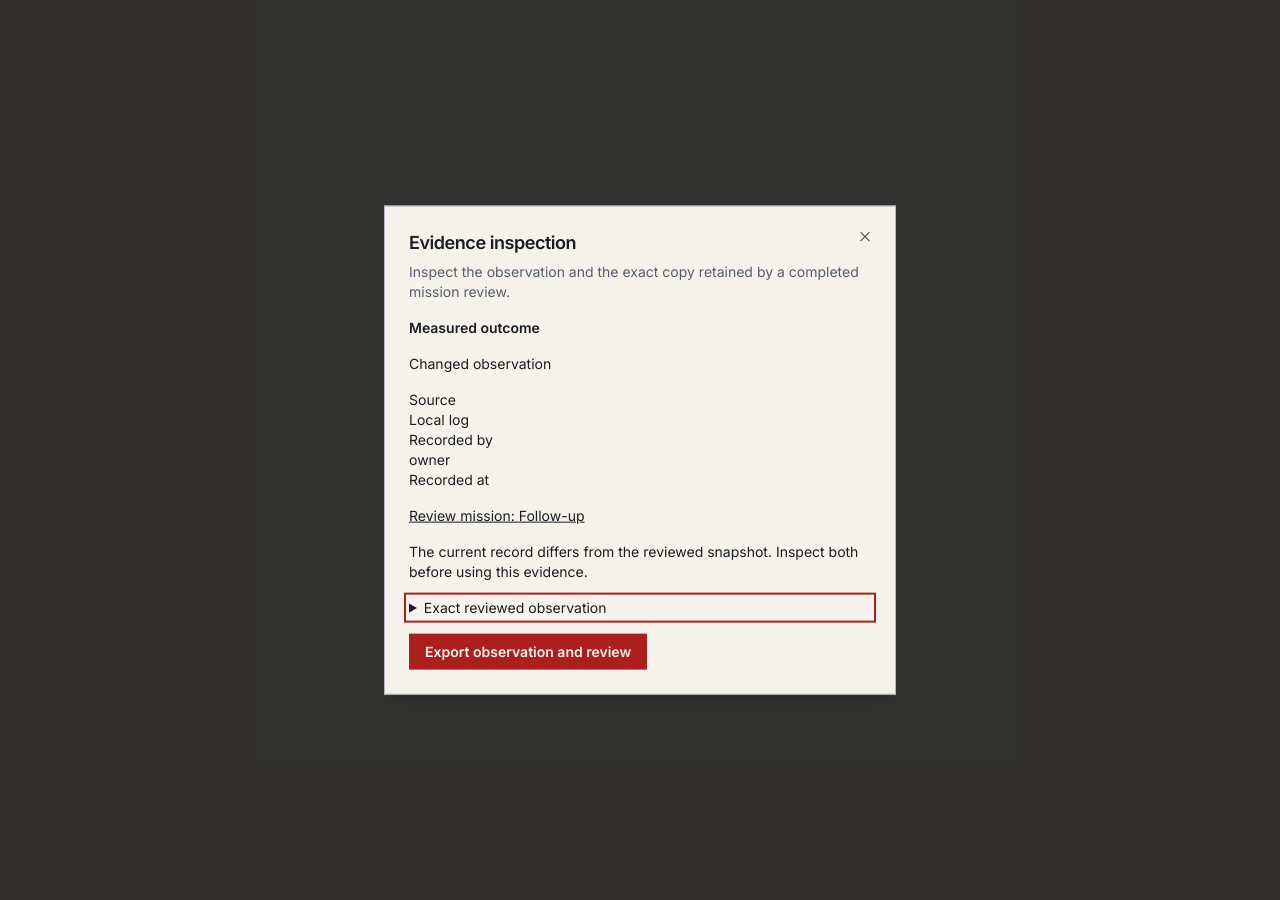
it: opens retained review bytes and leaves an unsafe evidence URL inert
This screenshot has width=1280, height=900.
Expected: the message shows "differs from the reviewed snapshot", left=409, top=542, right=858, bottom=579
Click the heading "Exact reviewed observation": (515, 607) left=424, top=598, right=606, bottom=615
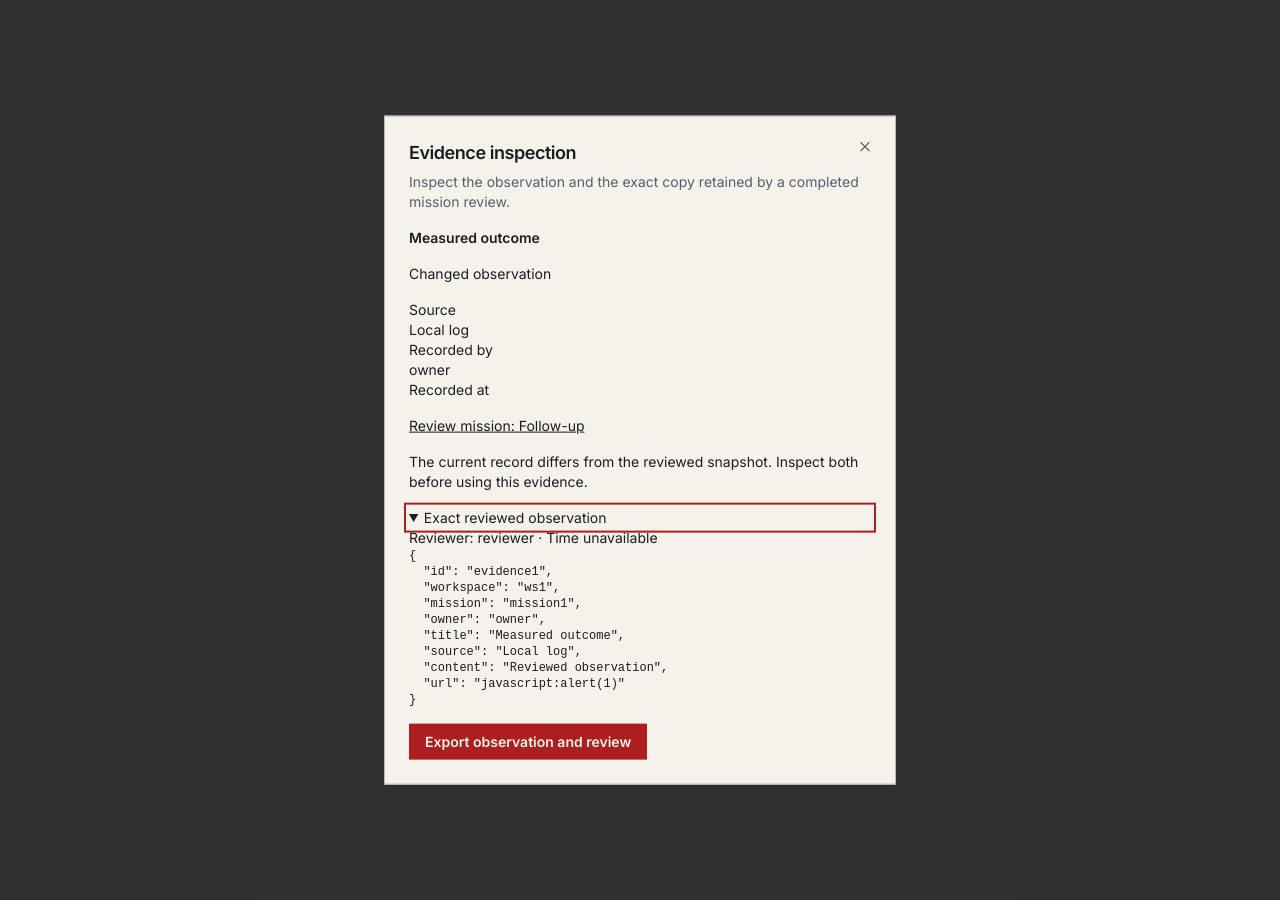
Expected: the text "\"content\": \"Reviewed observation\"" is shown, left=409, top=548, right=668, bottom=706
